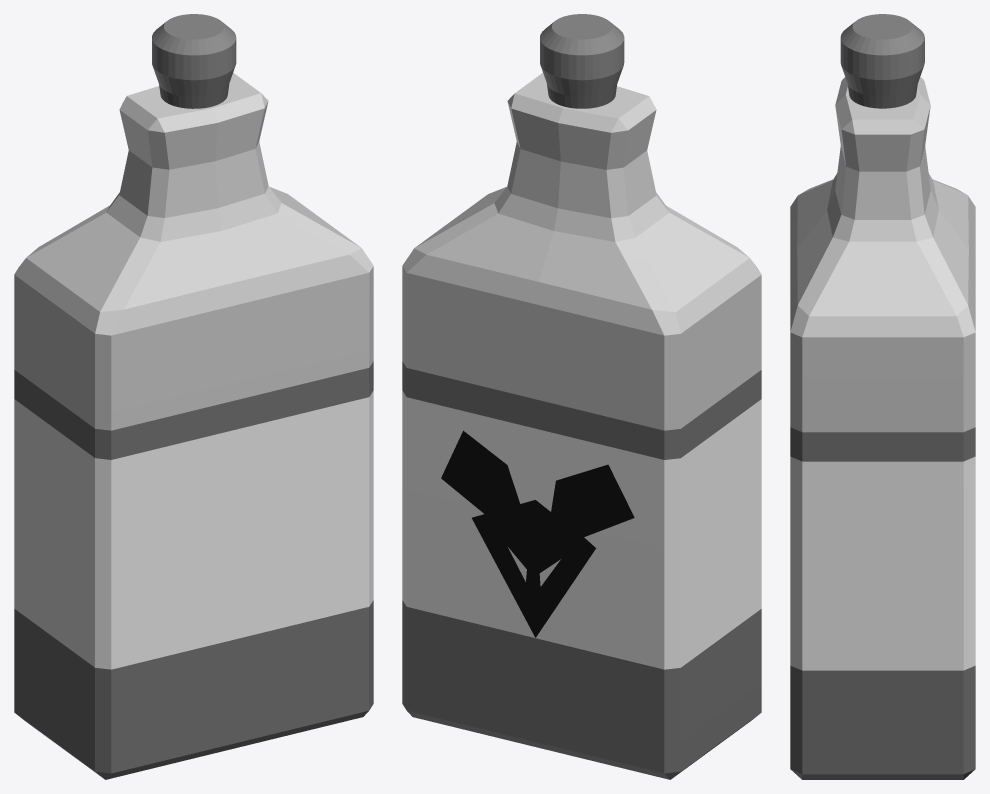
Rendered from RatPoisonModel.fbx.
3 views of the same model, side by side, from view 1: azimuth 30°, elevation 25°; view 2: azimuth 150°, elevation 25°; view 3: azimuth 270°, elevation 25° (orthographic).
Parts seen in each view (by area): view 1: RatPoisonModel; view 2: RatPoisonModel; view 3: RatPoisonModel.
Boxes of the visible parts, bbox=[...] form: RatPoisonModel: bbox=[14, 14, 373, 779]; RatPoisonModel: bbox=[402, 14, 761, 779]; RatPoisonModel: bbox=[790, 14, 975, 779].
Size of the model in its own units: 30 by 71.23 by 17.32.
